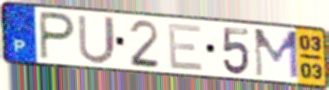2: (127, 18, 161, 70)
5: (221, 25, 252, 75)
E: (165, 22, 205, 73)
M: (252, 27, 301, 81)
P: (38, 9, 78, 62)
U: (76, 13, 118, 67)
